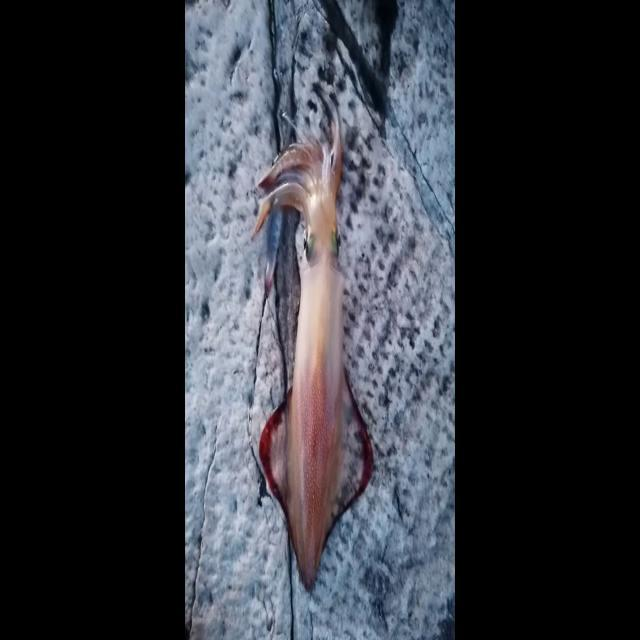squid: (255, 104, 372, 587)
